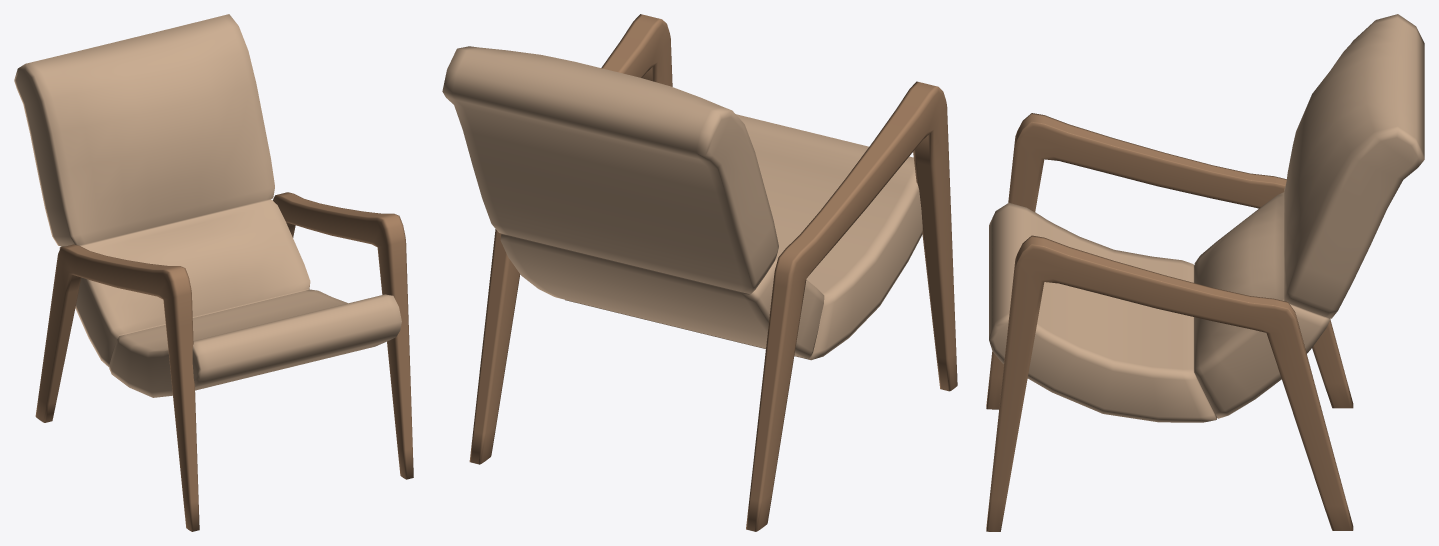
File: chair.glb
3 renders of one model, left to right at view 1: azimuth 30°, elevation 25°; view 2: azimuth 150°, elevation 25°; view 3: azimuth 270°, elevation 25°, orthographic. The views are drawn at different scales.
Parts seen in each view (by area): view 1: seat, leg_r, leg_l; view 2: seat, leg_r, leg_l; view 3: seat, leg_l, leg_r.
Boxes of the visible parts, bbox=[...] form: seat: bbox=[14, 14, 401, 397]; leg_r: bbox=[35, 244, 199, 531]; leg_l: bbox=[273, 192, 413, 479]; seat: bbox=[442, 46, 922, 360]; leg_r: bbox=[746, 81, 957, 531]; leg_l: bbox=[469, 14, 672, 464]; seat: bbox=[989, 14, 1424, 422]; leg_l: bbox=[986, 235, 1353, 531]; leg_r: bbox=[986, 113, 1353, 409].
Bounding box in the file's own units: 2.27 × 3.16 × 3.16.
